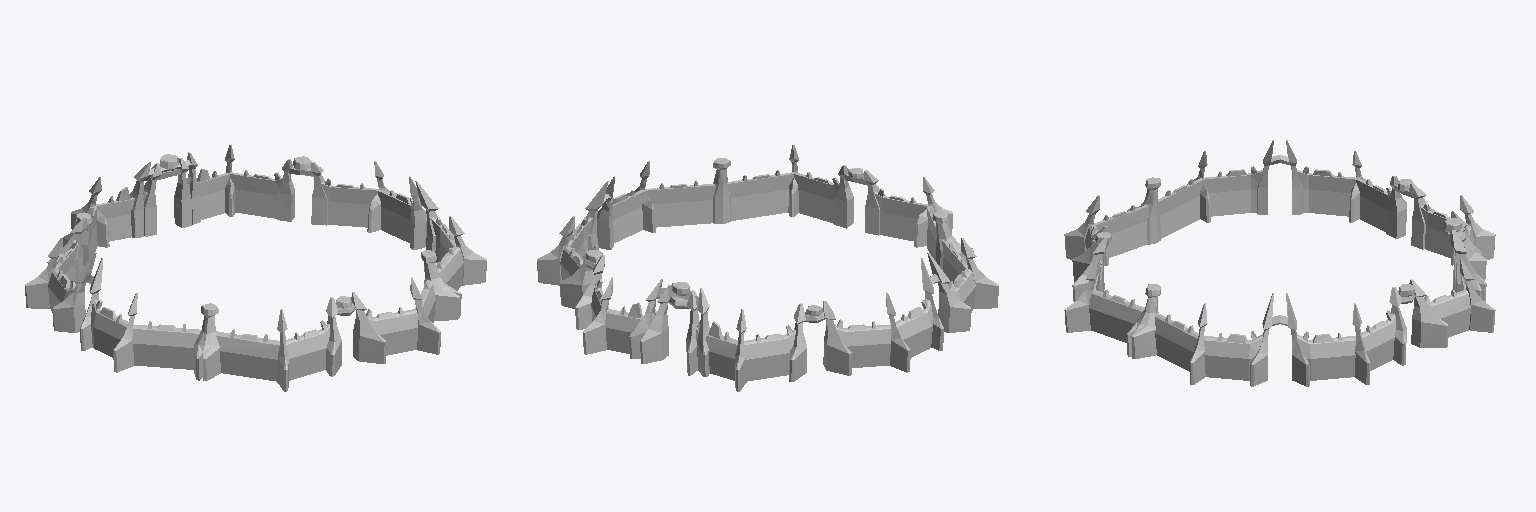
Rendered from outpostwalls_metal.obj.
The picture shows the model from 3 angles: view 1: azimuth 30°, elevation 25°; view 2: azimuth 150°, elevation 25°; view 3: azimuth 270°, elevation 25°; orthographic projection.
Parts seen in each view (by area): view 1: ci_castle_citywalls_small; view 2: ci_castle_citywalls_small; view 3: ci_castle_citywalls_small.
Part boxes in pixels (x1,y1,x2,y2): ci_castle_citywalls_small: (25, 145, 486, 391); ci_castle_citywalls_small: (537, 145, 998, 391); ci_castle_citywalls_small: (1064, 140, 1495, 386).
Bounding box in the file's own units: 99.74 × 19.52 × 98.26.